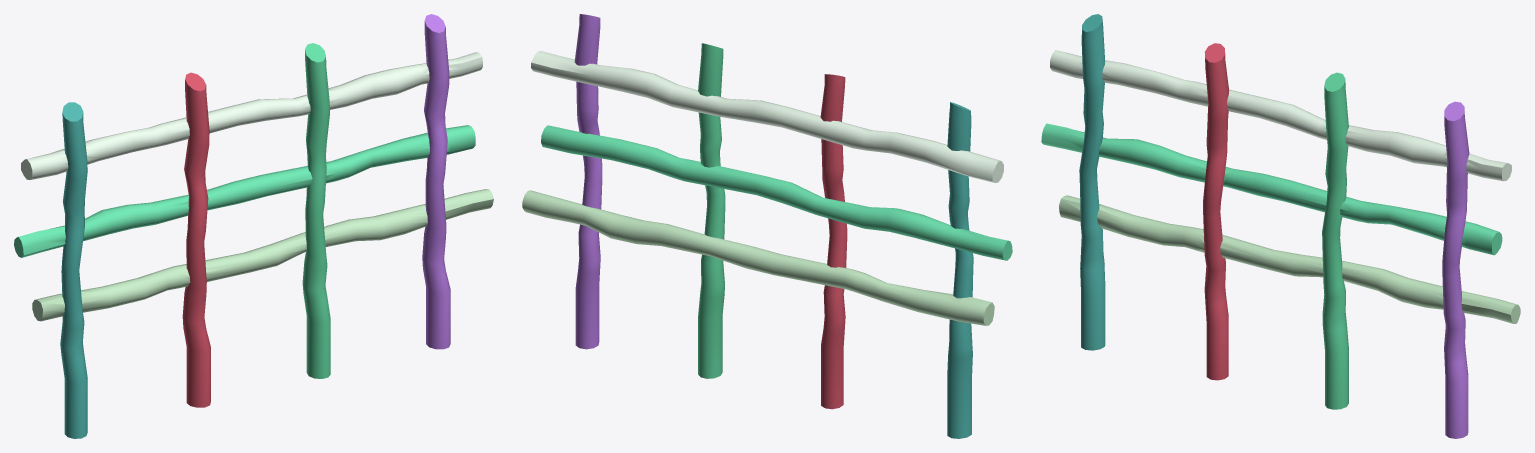
The picture shows the model from 3 angles, left to right: view 1: azimuth 30°, elevation 25°; view 2: azimuth 150°, elevation 25°; view 3: azimuth 330°, elevation 25°; orthographic projection. The views are drawn at different scales.
Visible parts, largest first — view 1: Object_2.031, Object_2, Object_2.042, Object_2.001, Object_2.032, Object_2.022, Object_2.012; view 2: Object_2, Object_2.042, Object_2.031, Object_2.032, Object_2.001, Object_2.012, Object_2.022; view 3: Object_2.031, Object_2, Object_2.042, Object_2.032, Object_2.012, Object_2.001, Object_2.022.
Boxes of the visible parts, x1=… form: Object_2.031: x1=14, y1=125, x2=475, y2=257; Object_2: x1=32, y1=189, x2=493, y2=321; Object_2.042: x1=21, y1=52, x2=482, y2=179; Object_2.001: x1=422, y1=14, x2=450, y2=349; Object_2.032: x1=302, y1=43, x2=330, y2=378; Object_2.022: x1=182, y1=72, x2=210, y2=407; Object_2.012: x1=60, y1=102, x2=87, y2=438; Object_2: x1=522, y1=190, x2=994, y2=325; Object_2.042: x1=531, y1=51, x2=1003, y2=182; Object_2.031: x1=541, y1=125, x2=1012, y2=260; Object_2.032: x1=698, y1=43, x2=725, y2=378; Object_2.001: x1=574, y1=14, x2=602, y2=349; Object_2.012: x1=947, y1=102, x2=973, y2=438; Object_2.022: x1=820, y1=74, x2=847, y2=409; Object_2.031: x1=1041, y1=123, x2=1502, y2=255; Object_2: x1=1059, y1=195, x2=1520, y2=323; Object_2.042: x1=1050, y1=50, x2=1511, y2=181; Object_2.032: x1=1322, y1=72, x2=1348, y2=409; Object_2.012: x1=1079, y1=14, x2=1105, y2=350; Object_2.001: x1=1442, y1=101, x2=1469, y2=438; Object_2.022: x1=1203, y1=43, x2=1229, y2=380.
Size of the model in its own units: 1 by 0.6642 by 0.0696.
